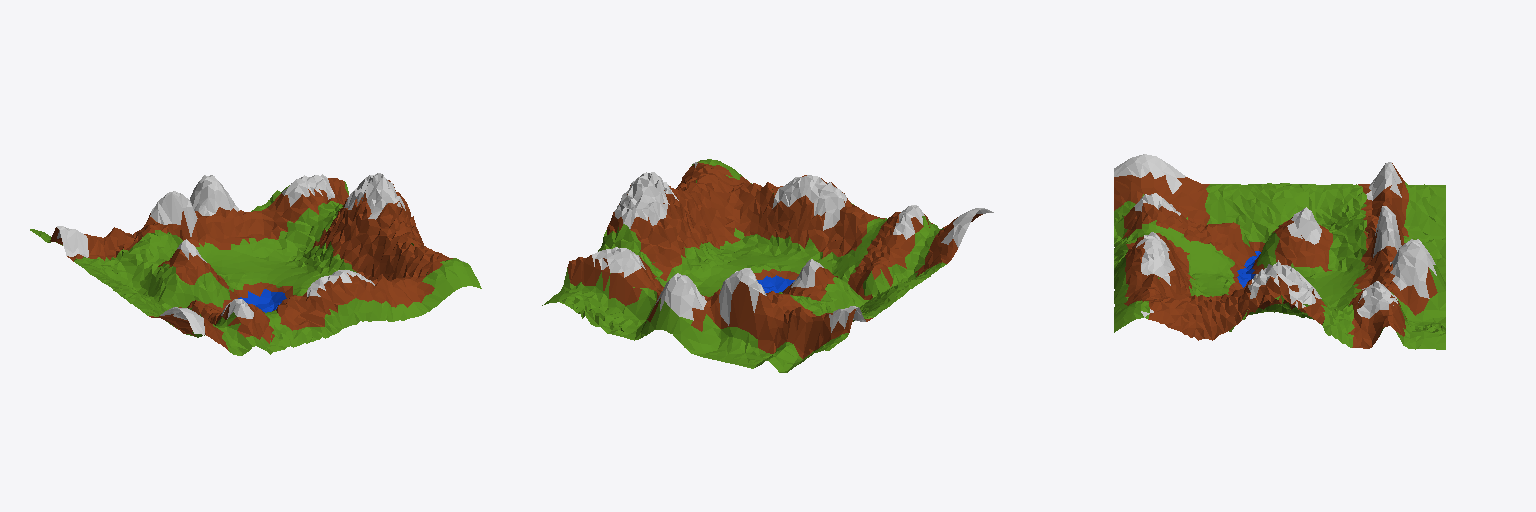
Rendered from landscape.obj.
3 views of the same model, side by side, from view 1: azimuth 30°, elevation 25°; view 2: azimuth 150°, elevation 25°; view 3: azimuth 270°, elevation 25° (orthographic).
Visible parts, largest first — view 1: Grid; view 2: Grid; view 3: Grid.
Boxes of the visible parts, box(x1,y1,x2,y2) form: Grid: box(30, 173, 481, 355); Grid: box(542, 159, 993, 372); Grid: box(1114, 154, 1445, 349).
Size of the model in its own units: 65.26 by 23 by 65.15.